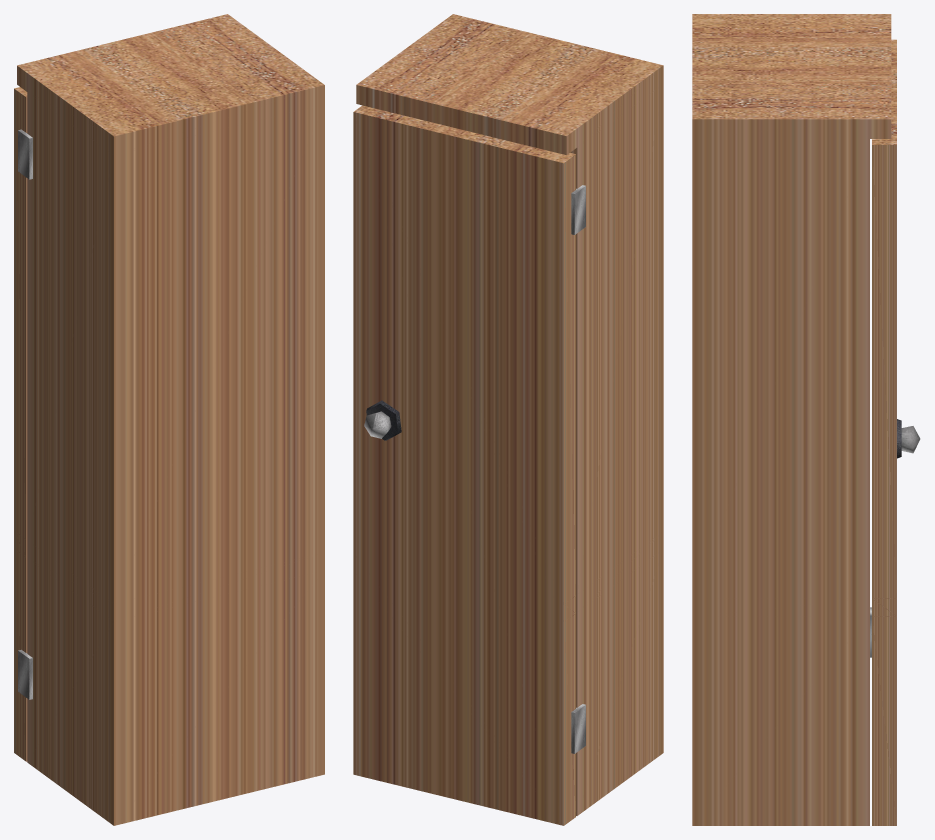
The model's file is locker1.FBX.
The picture shows the model from 3 angles, left to right: view 1: azimuth 30°, elevation 25°; view 2: azimuth 150°, elevation 25°; view 3: azimuth 270°, elevation 25°; orthographic projection. The views are drawn at different scales.
Visible parts, largest first — view 1: Box002, Object001, Box003, Box004; view 2: Object001, Box002, Box004, Box003, Cylinder001; view 3: Box002, Object001.
Part boxes in pixels (x1,y1,x2,y2): Box002: [17, 14, 324, 825]; Object001: [14, 87, 27, 761]; Box003: [18, 649, 32, 699]; Box004: [18, 129, 32, 179]; Object001: [353, 105, 575, 825]; Box002: [356, 14, 663, 815]; Box004: [571, 185, 585, 234]; Box003: [571, 704, 585, 753]; Cylinder001: [366, 400, 401, 440]; Box002: [692, 14, 891, 825]; Object001: [872, 39, 896, 825].
Bounding box in the file's own units: 40.48 × 124 × 36.4.
3 materials, 3 textured.
